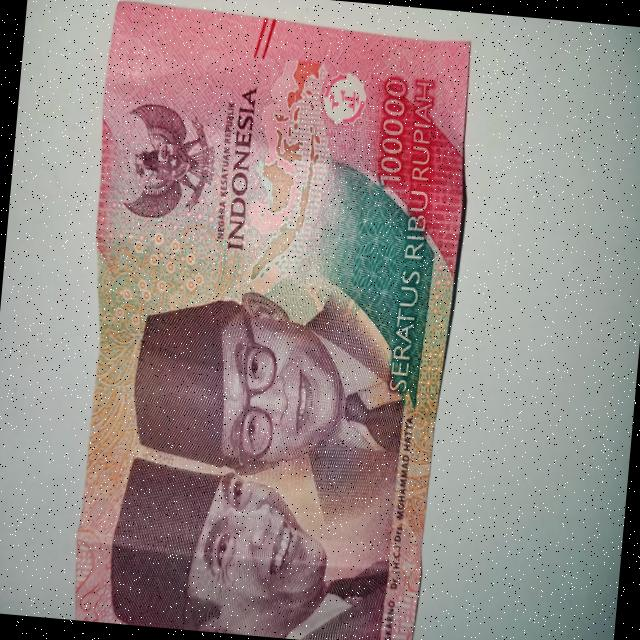100K: (52, 0, 492, 640)
